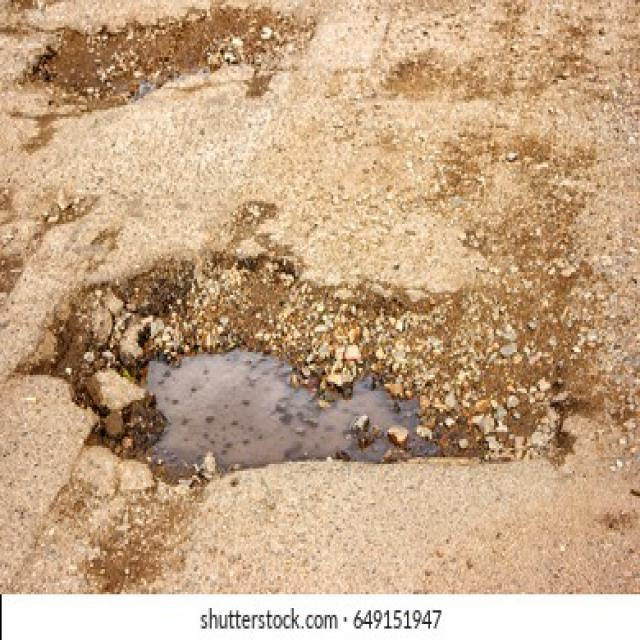Pothole: (14, 242, 570, 489), (10, 13, 315, 116)
